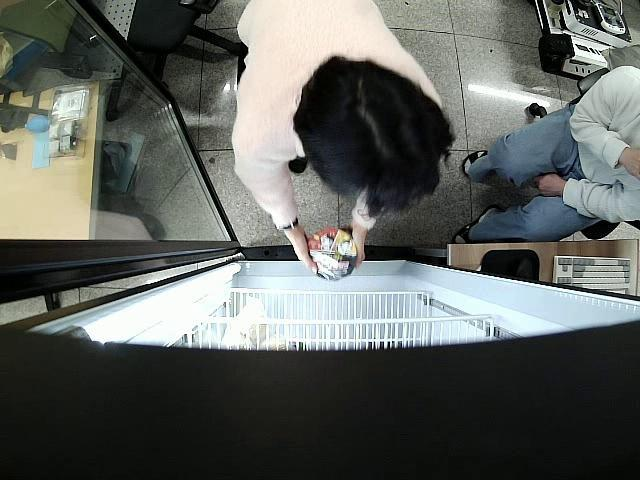07_buldak_L: (308, 226, 358, 282)
